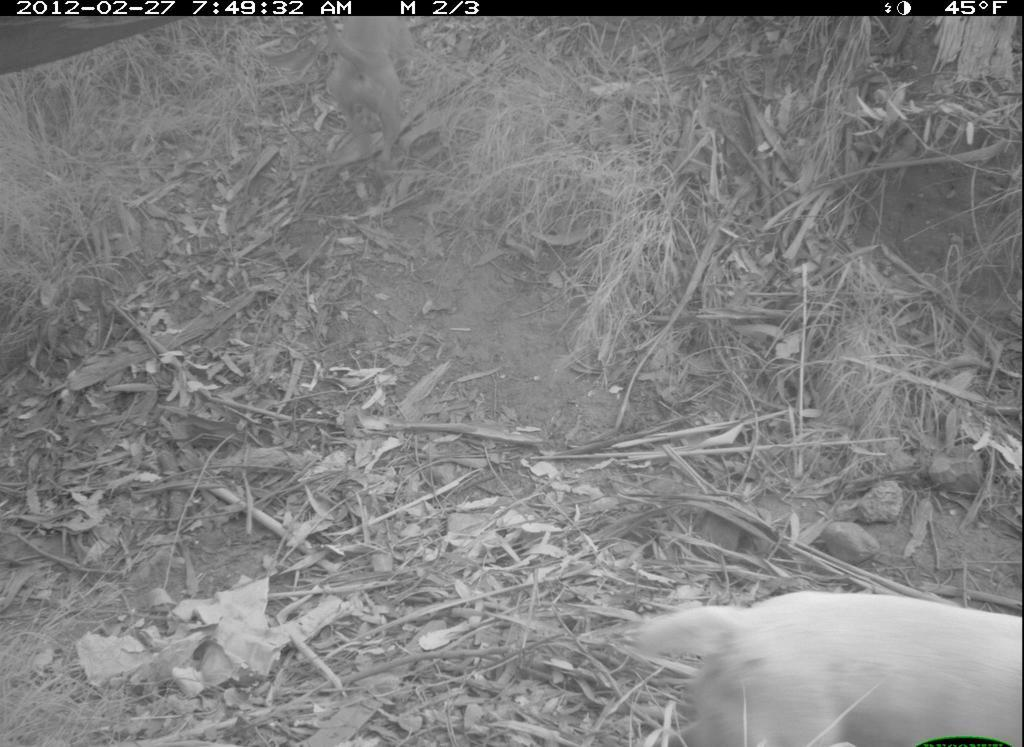dog: (635, 578, 1023, 747)
